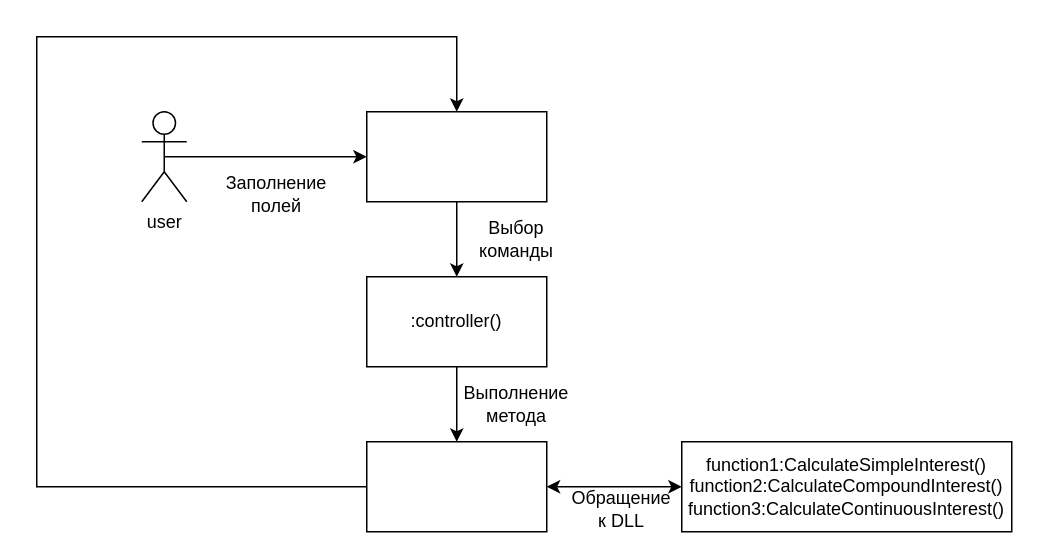
This 1038x558 diagram has some shape labels left out. Here are the shapes that lost their labels. From the top down, the centre of each, then its label:
pixel 456 156: :interface()
pixel 456 486: :InterestCalculator
